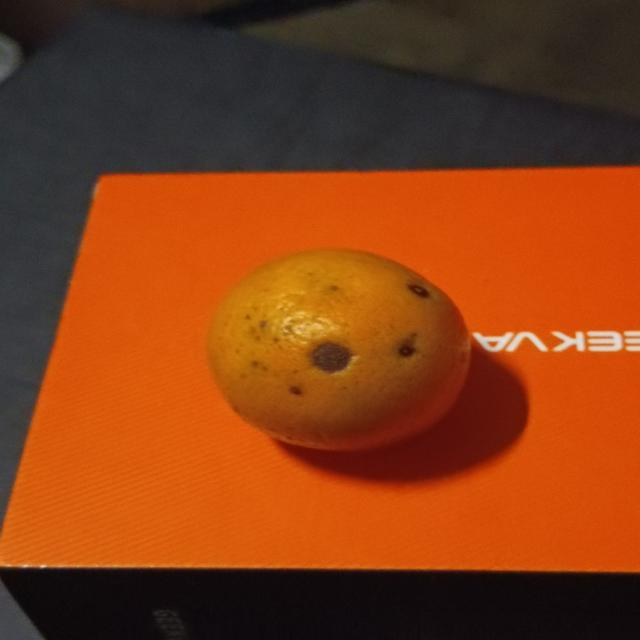black spot: (201, 240, 485, 457)
